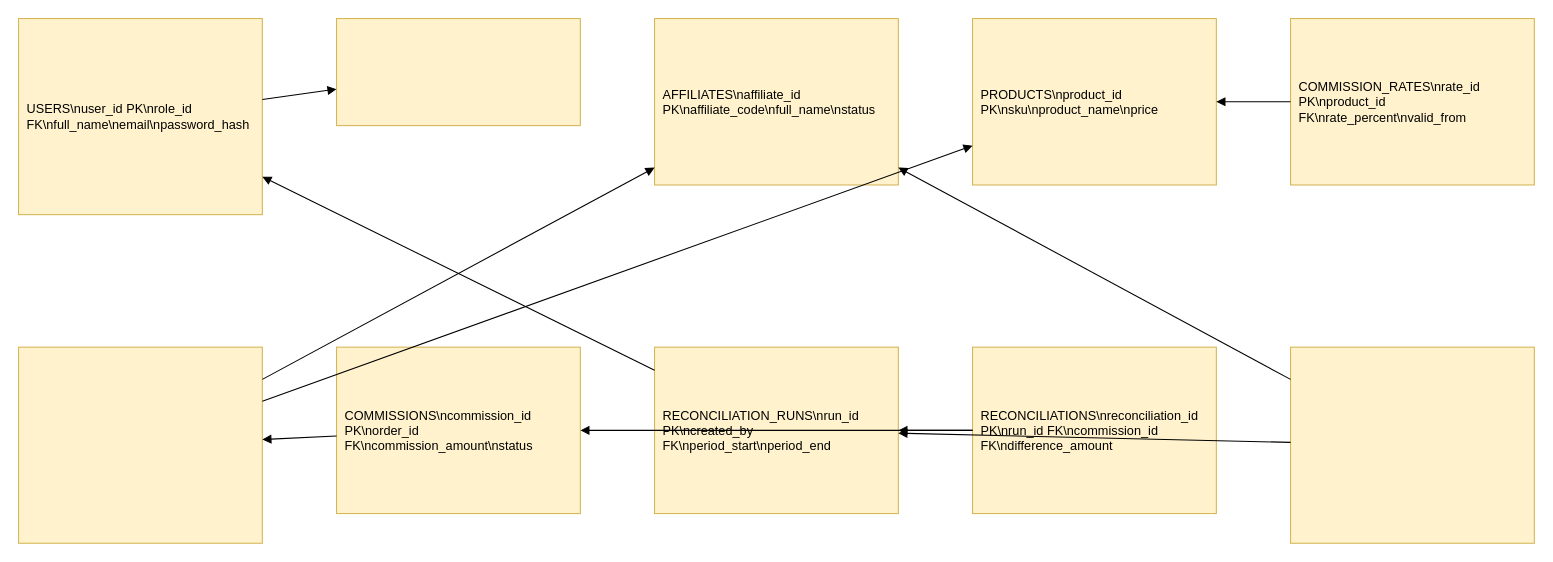
Some shapes in this 1553 by 562 pixel diagram are drawn without their labels. The shapes that lost their labels are listed below. From the top down, each one's centre as x and y in pixels, then its label:
[457,71]: ROLES\nrole_id PK\nrole_name
[139,444]: ORDERS\norder_id PK\naffiliate_id FK\nproduct_id FK\norder_value\nstatus
[1411,444]: PAYMENTS\npayment_id PK\naffiliate_id FK\nrun_id FK\namount\nstatus
